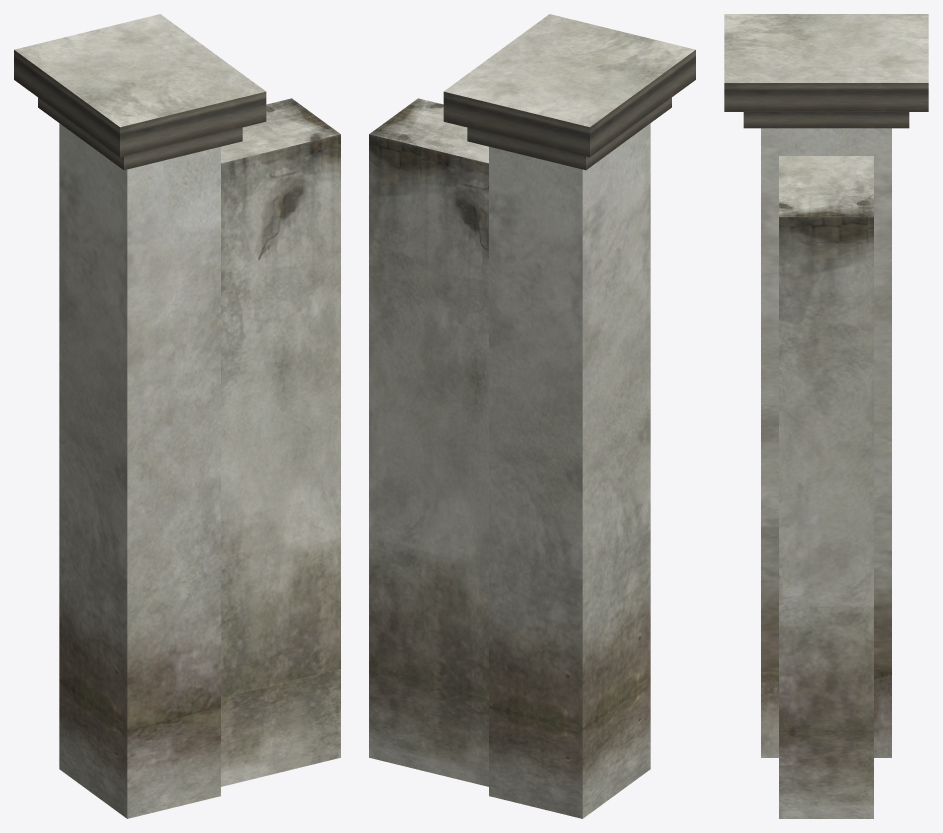
File: english_wall_10.fbx
3 views of the same model, side by side, from view 1: azimuth 30°, elevation 25°; view 2: azimuth 150°, elevation 25°; view 3: azimuth 270°, elevation 25° (orthographic). The views are drawn at different scales.
Visible parts, largest first — view 1: lod_high; view 2: lod_high; view 3: lod_high.
Part boxes in pixels (box(x1,y1,x2,y2)): lod_high: box(14, 14, 340, 818); lod_high: box(369, 14, 695, 818); lod_high: box(724, 14, 928, 818).
Size of the model in its own units: 1465 by 3999 by 1079.
1 material, 1 textured.
